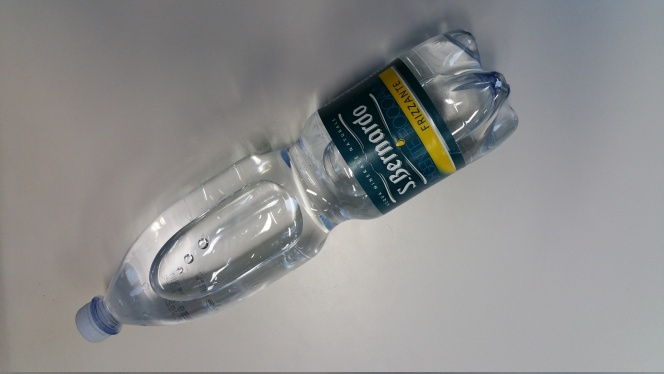bottle: (63, 7, 521, 348)
